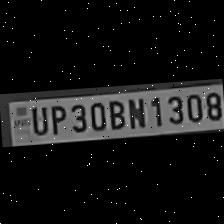0: (85, 97, 107, 130), (181, 90, 202, 122)
1: (145, 92, 163, 126)
3: (162, 91, 184, 124), (66, 99, 86, 132)
8: (200, 88, 223, 120)
B: (104, 95, 125, 129)
N: (124, 94, 146, 129)
P: (46, 101, 68, 135)
U: (27, 104, 46, 136)
